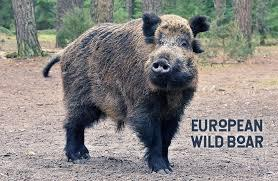wildboar: (40, 11, 213, 176)
